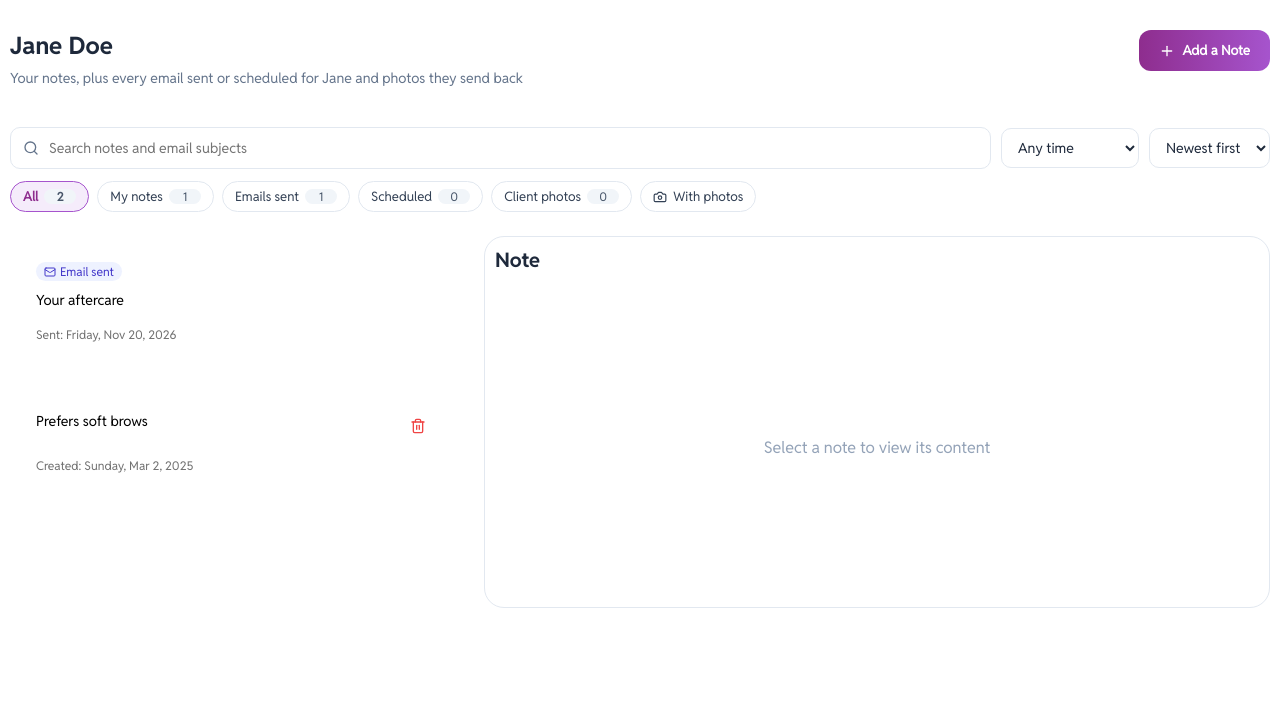
Test case: ClientNotesPage: filters › searches the notes
Expected: the text "Your aftercare" is shown, x1=36 y1=291 x2=124 y2=309
In the search field labelled "Search notes": (512, 148) x1=47 y1=138 x2=978 y2=158, type "brows"
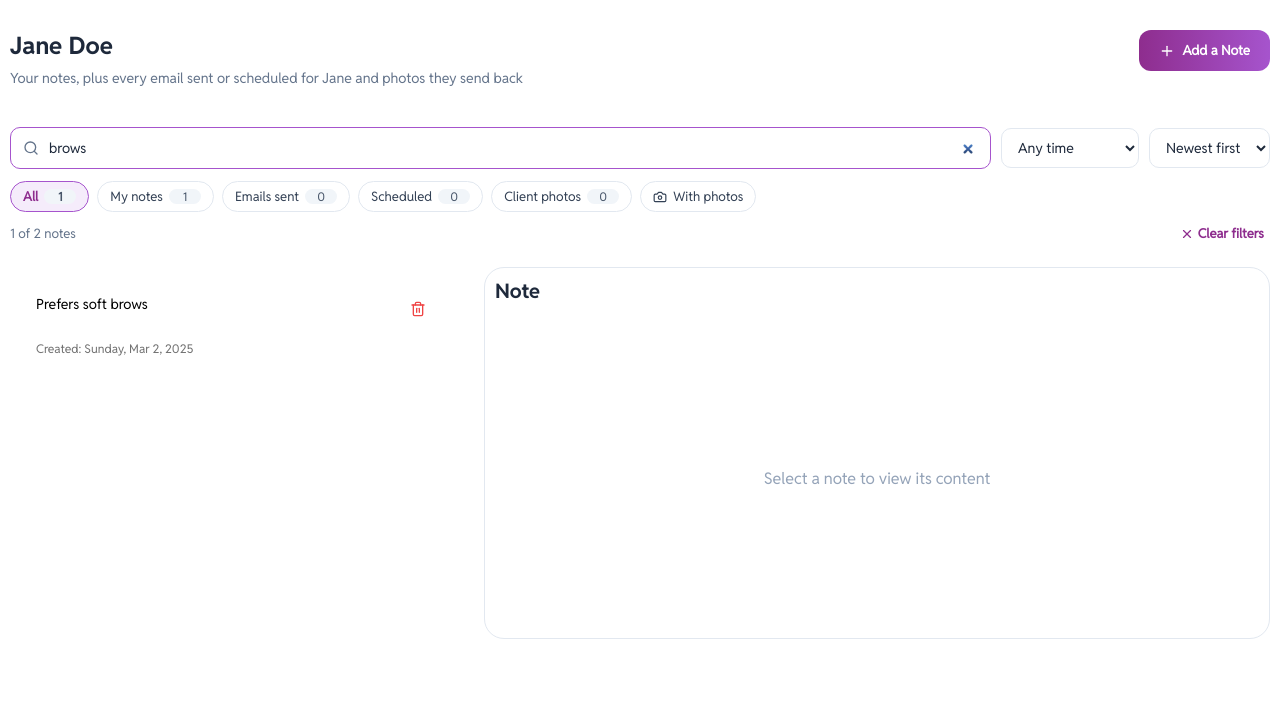
Expected: the text "Prefers soft brows" is shown, x1=36 y1=295 x2=148 y2=313
Expected: the text "Your aftercare" is gone
